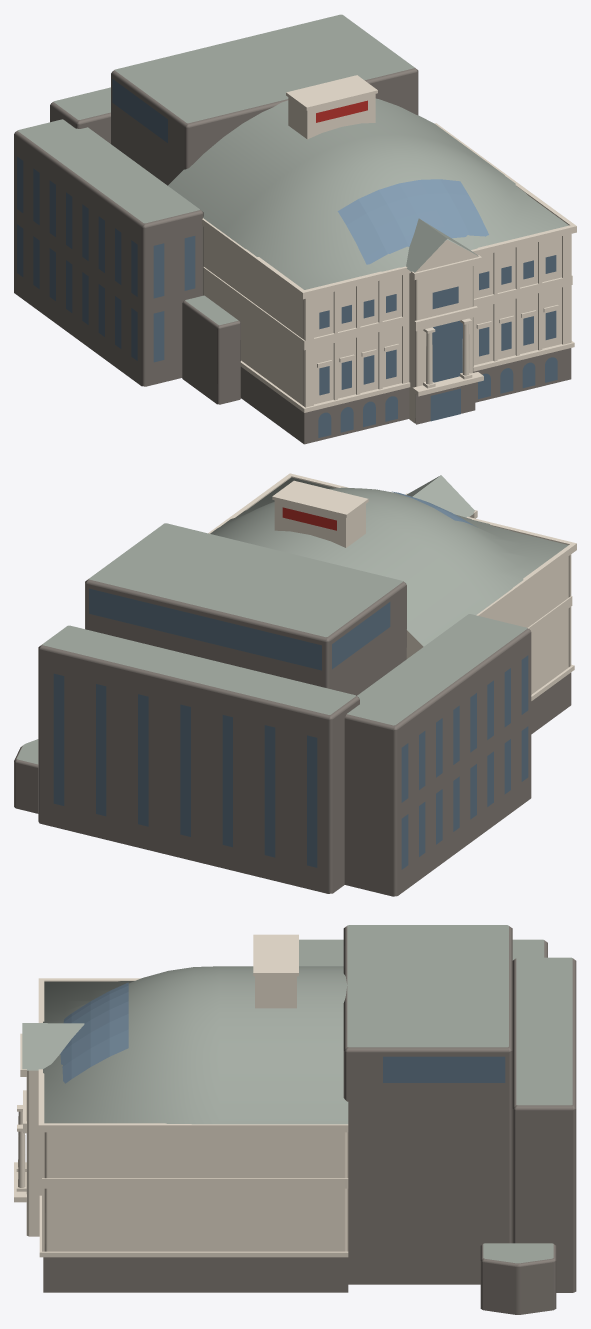
File: amsterdam-carre.glb
The picture shows the model from 3 angles, top to bottom: view 1: azimuth 30°, elevation 25°; view 2: azimuth 150°, elevation 25°; view 3: azimuth 270°, elevation 25°; orthographic projection. The views are drawn at different scales.
Parts seen in each view (by area): view 1: Koninklijk Theater Carré; view 2: Koninklijk Theater Carré; view 3: Koninklijk Theater Carré.
Part boxes in pixels (bbox=[...]): Koninklijk Theater Carré: bbox=[14, 14, 576, 444]; Koninklijk Theater Carré: bbox=[14, 473, 576, 896]; Koninklijk Theater Carré: bbox=[14, 925, 576, 1314].
Bounding box in the file's own units: 51.62 × 32.3 × 61.66.
